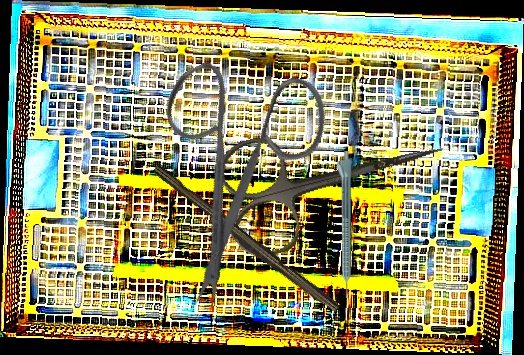Handpiece: (335, 151, 352, 298)
Iris Scissors: (100, 23, 385, 316), (213, 94, 458, 263)
Scalpel Handle: (147, 163, 344, 317)
